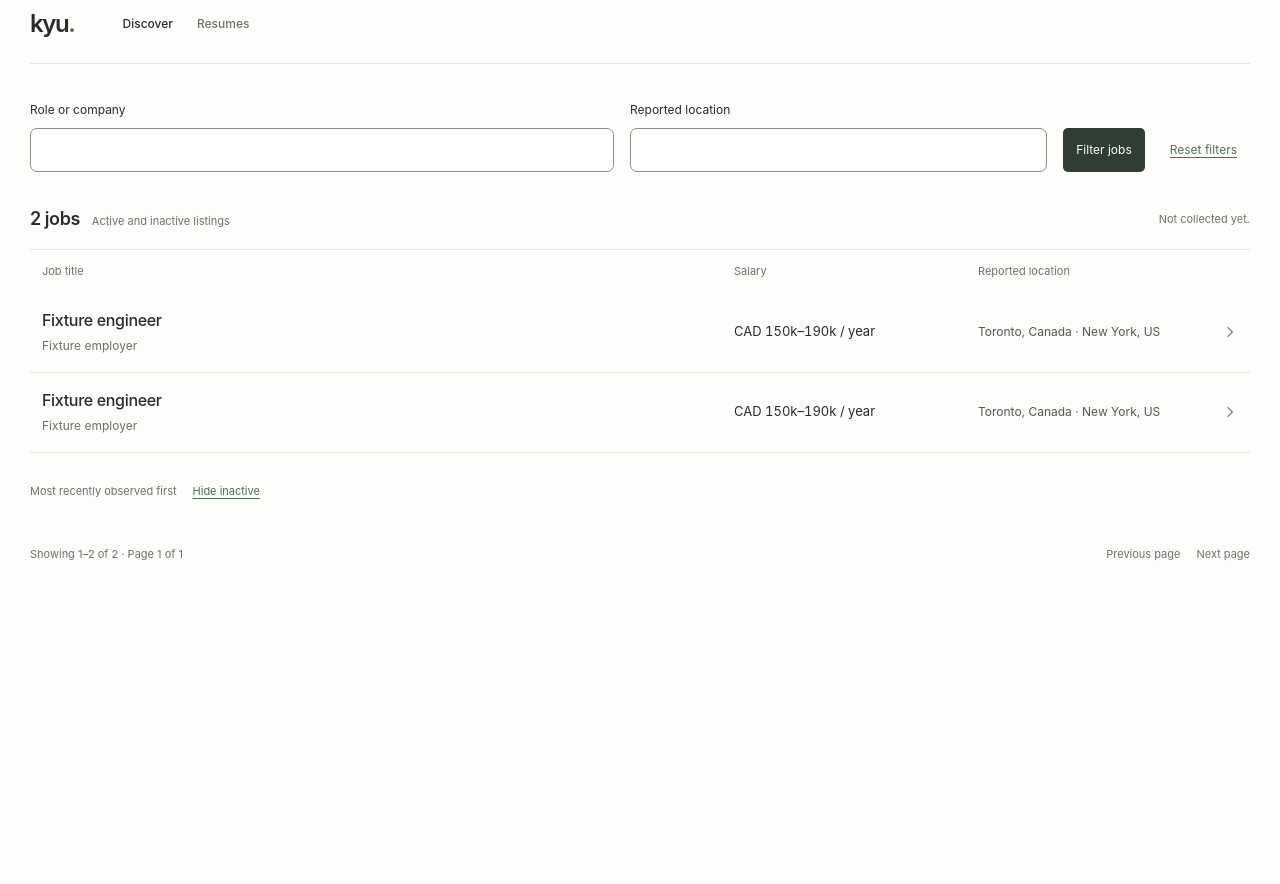
JobCatalog › keeps inactive observations and exact provider provenance distinct, including upstream identity
The image size is (1280, 884).
Click the 2nd heading.
click(102, 320)  # box [42, 310, 1238, 353]
(page scrolled)
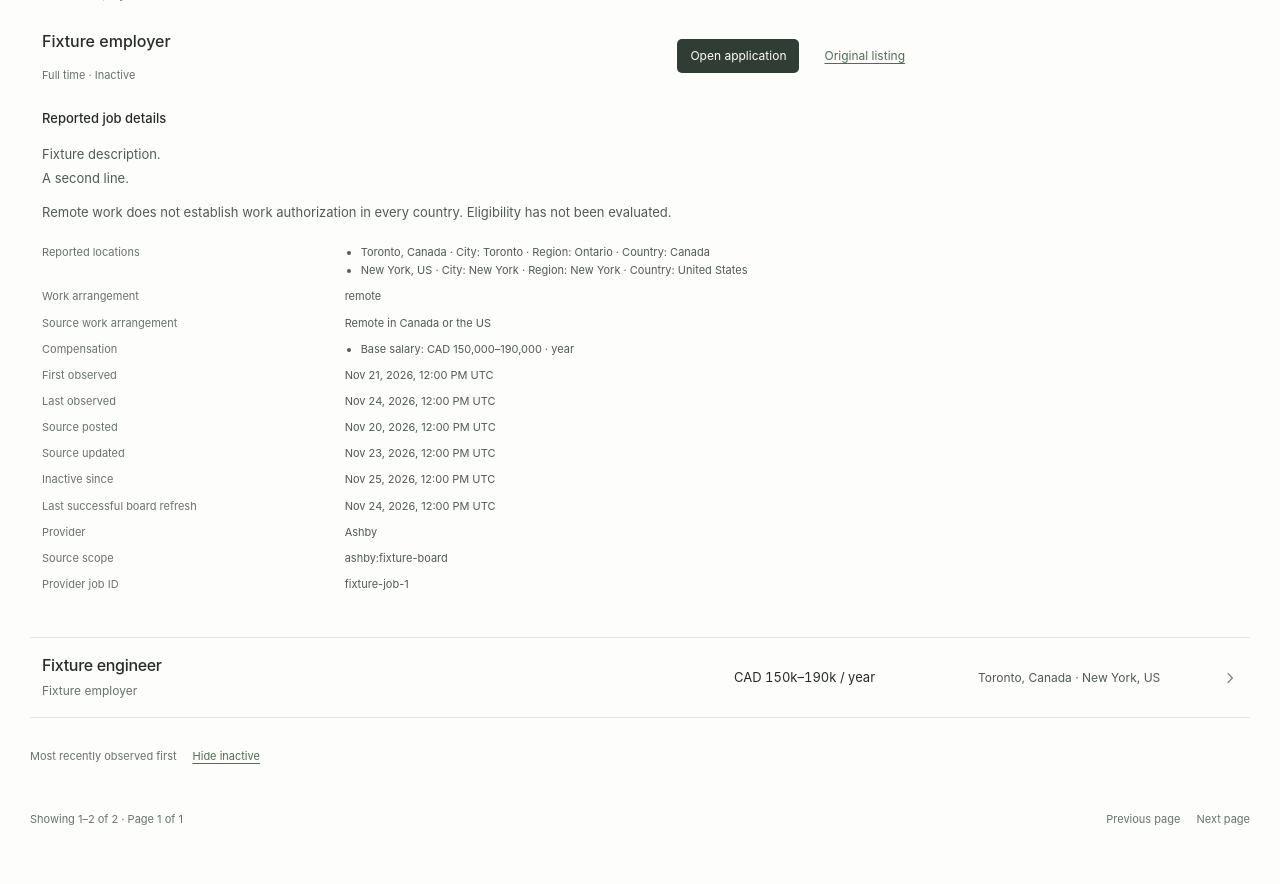
Now the text "Inactive" is shown, box [95, 68, 135, 82]
Click the 4th heading.
click(102, 665)  # box [42, 655, 1238, 698]
(page scrolled)
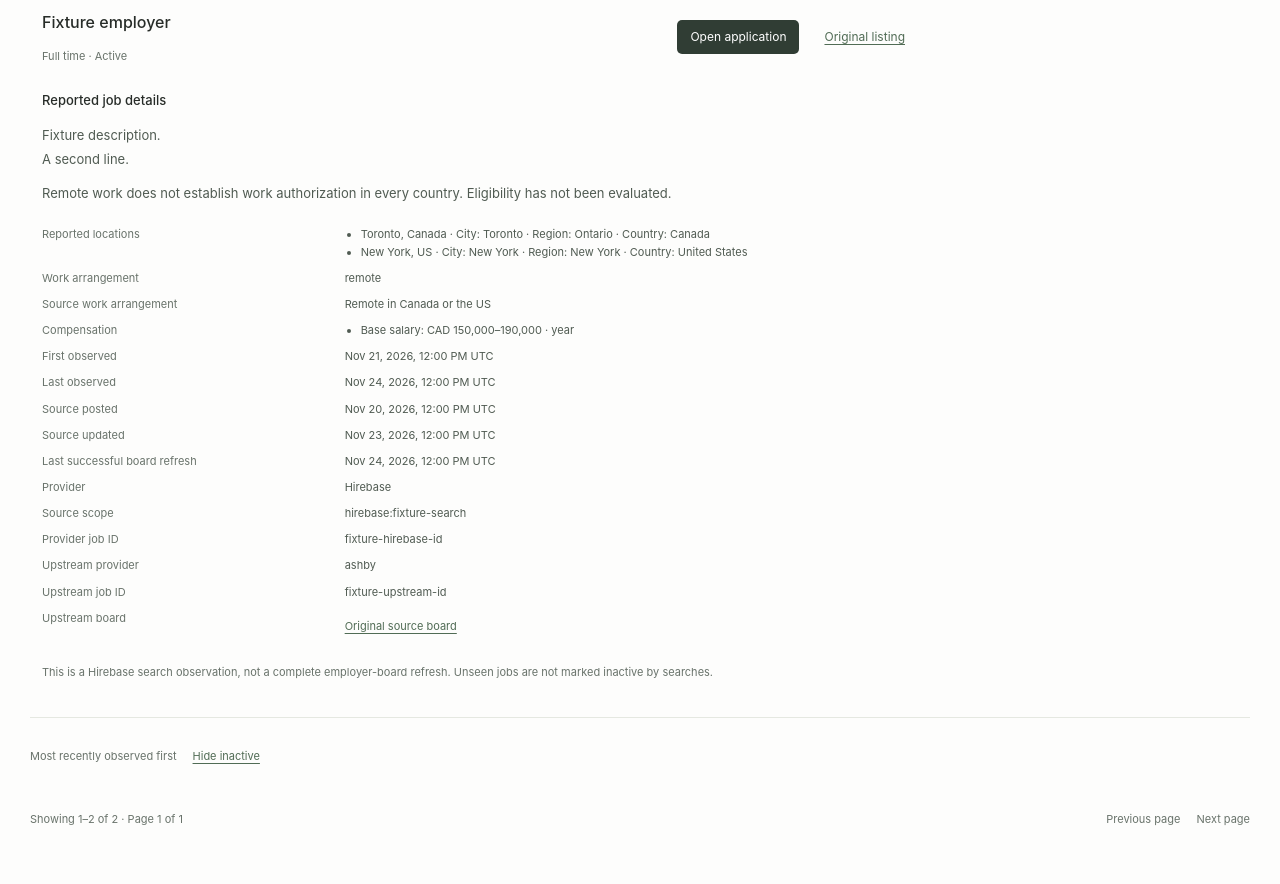
Now the text "fixture-hirebase-id" is shown, box [345, 532, 442, 546]
Now the text "fixture-upstream-id" is shown, box [345, 584, 447, 598]
Now the text "not a complete employer-board refresh" is shown, box [42, 665, 713, 679]
